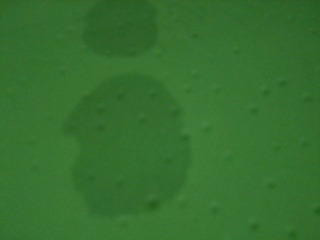Water_detected: (107, 13, 226, 194)
